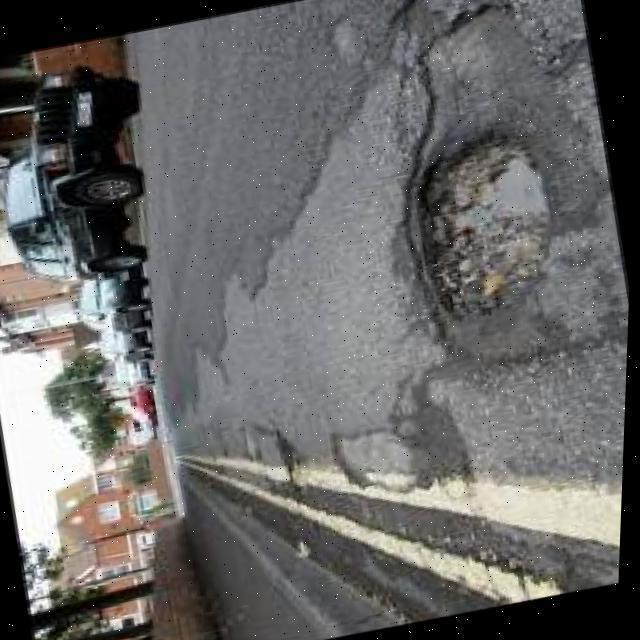Pothole: (405, 123, 561, 322)
